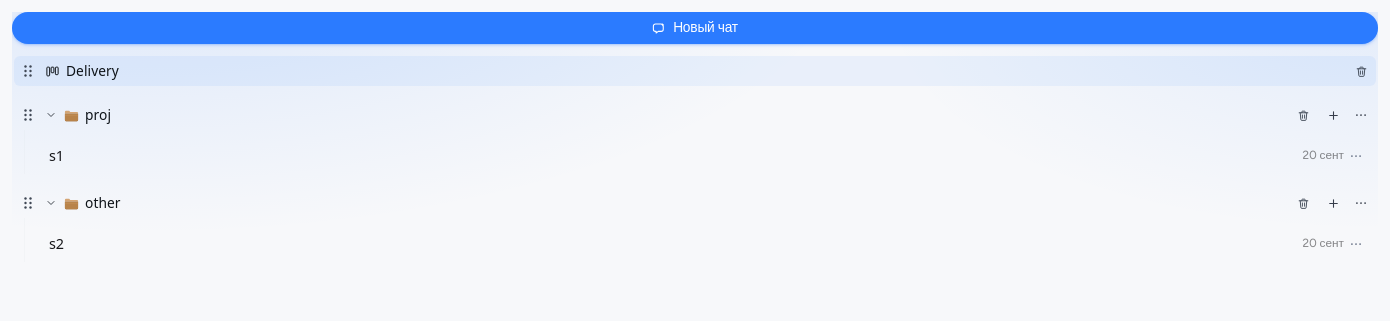
Test case: board row menu › closes on Escape
Right-click the element showing "Delivery" at (695, 71), box [14,56,1376,86]
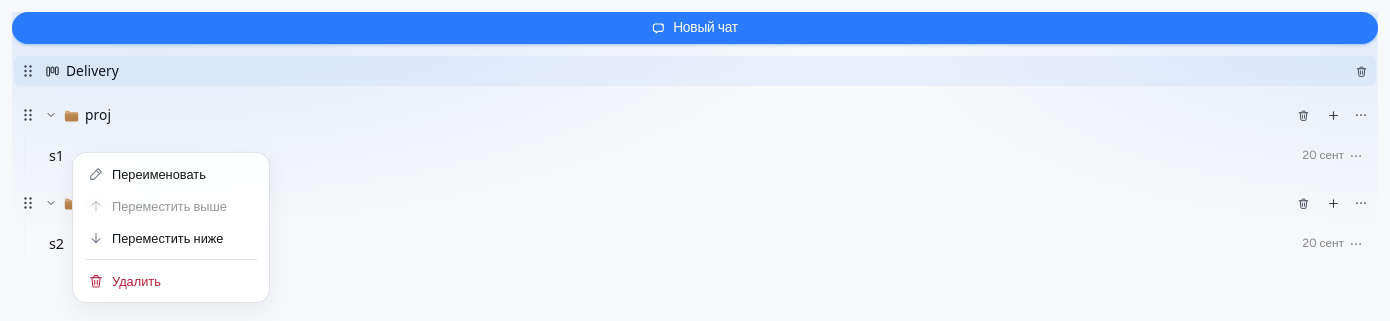
Expected: the menu is shown, [72,152,270,303]
Press Escape
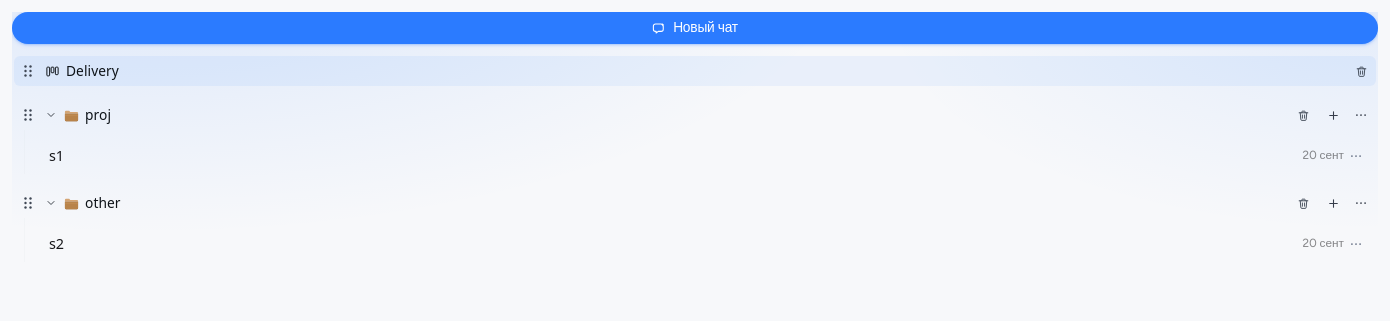
Expected: the menu is gone
